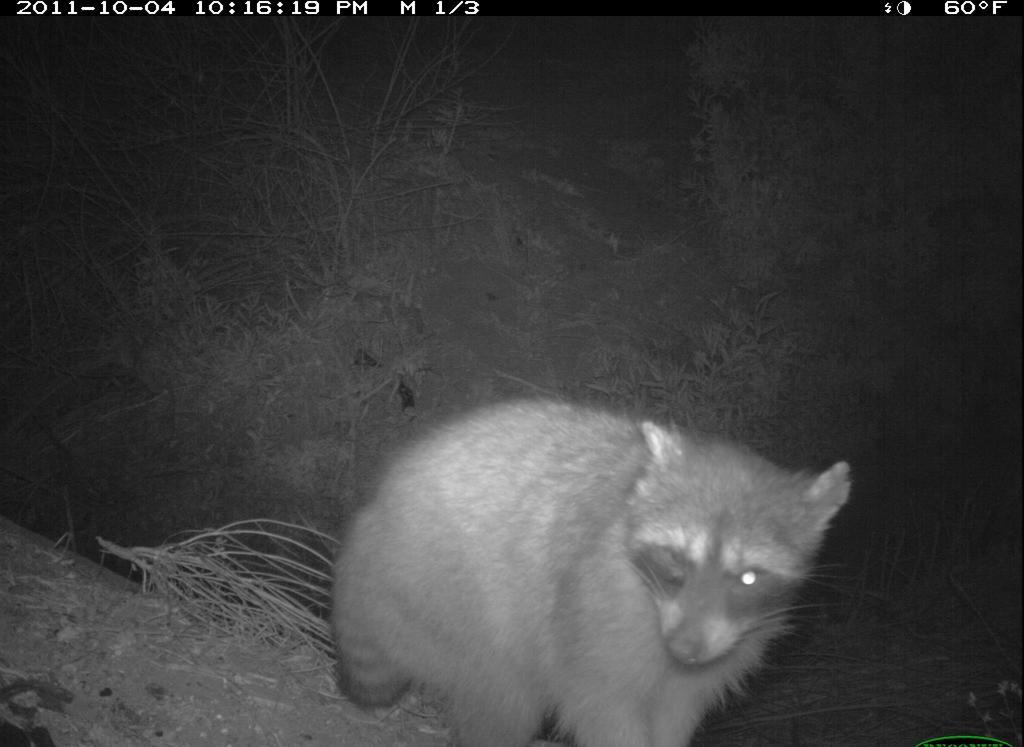raccoon: (326, 373, 859, 747)
